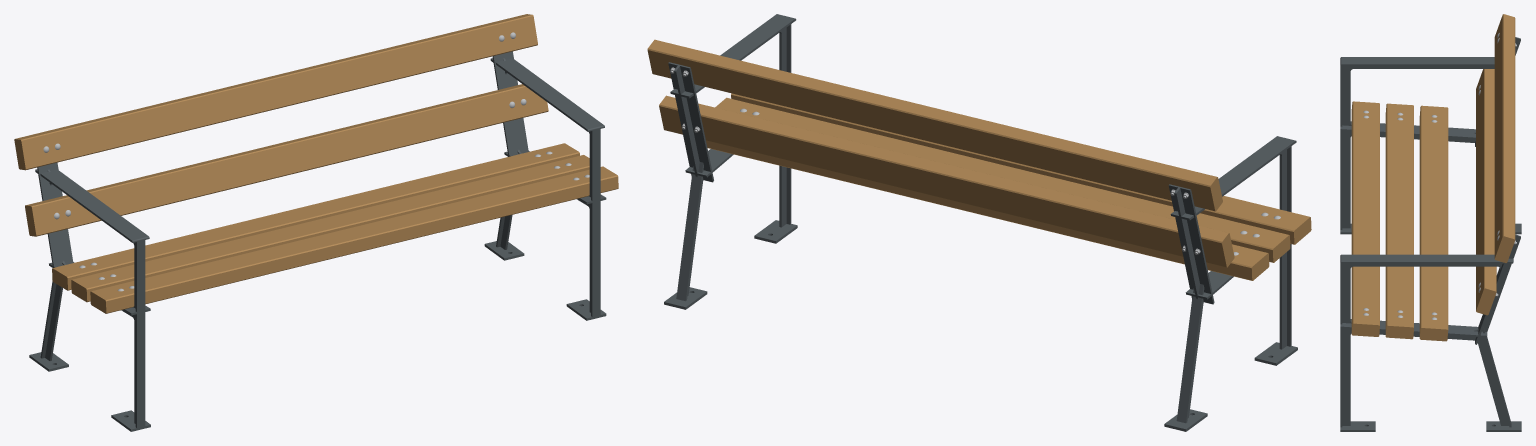
The model's file is serra180_GRY.glb.
3 views of the same model, side by side, from view 1: azimuth 30°, elevation 25°; view 2: azimuth 150°, elevation 25°; view 3: azimuth 270°, elevation 25° (orthographic). The views are drawn at different scales.
Visible parts, largest first — view 1: slat_back_2, slat_back_1, slat_seat_1, slat_seat_3, slat_seat_2, frame_left, frame_right; view 2: slat_back_2, slat_back_1, frame_left, frame_right, slat_seat_2, slat_seat_3, slat_seat_1; view 3: frame_right, slat_seat_3, slat_seat_1, slat_seat_2, slat_back_2, frame_left, slat_back_1.
Part boxes in pixels (bbox=[...]): slat_back_2: bbox=[14, 14, 537, 170]; slat_back_1: bbox=[25, 84, 548, 236]; slat_seat_1: bbox=[90, 166, 618, 313]; slat_seat_3: bbox=[52, 143, 579, 290]; slat_seat_2: bbox=[71, 155, 589, 302]; frame_left: bbox=[29, 162, 150, 431]; frame_right: bbox=[484, 51, 606, 320]; slat_back_2: bbox=[647, 39, 1222, 211]; slat_back_1: bbox=[659, 95, 1234, 267]; frame_left: bbox=[1164, 136, 1297, 431]; frame_right: bbox=[664, 14, 797, 309]; slat_seat_2: bbox=[715, 97, 1290, 262]; slat_seat_3: bbox=[706, 140, 1269, 280]; slat_seat_1: bbox=[731, 93, 1311, 244]; frame_right: bbox=[1340, 234, 1521, 431]; slat_seat_3: bbox=[1419, 105, 1448, 341]; slat_seat_1: bbox=[1351, 101, 1379, 336]; slat_seat_2: bbox=[1385, 103, 1413, 339]; slat_back_2: bbox=[1494, 14, 1515, 262]; frame_left: bbox=[1340, 37, 1521, 234]; slat_back_1: bbox=[1476, 69, 1496, 315].
Size of the model in its own units: 1.8 by 0.77 by 0.62.
